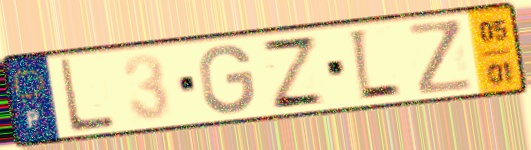3: (121, 51, 173, 124)
G: (196, 42, 258, 117)
L: (56, 56, 117, 136), (346, 26, 404, 106)
Z: (405, 16, 477, 98), (258, 35, 329, 111)
